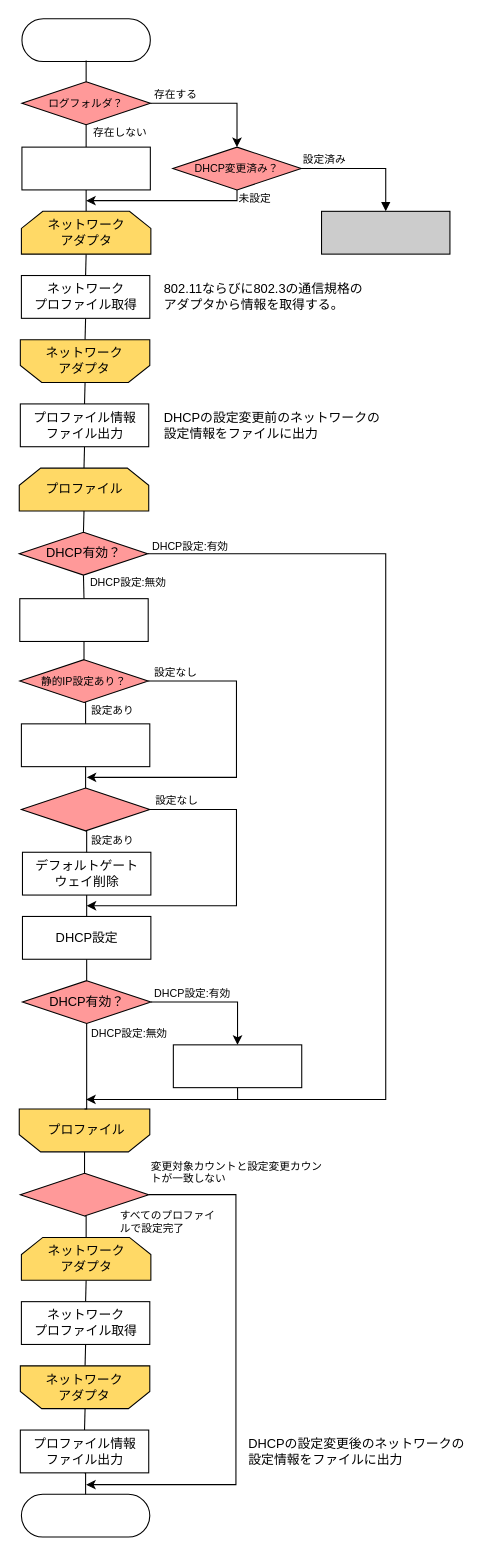
This 488x1556 diagram has some shape labels left out. The shapes that lost their labels are listed below. From the top down, each one's box as (x1, y1, x2, y2) in pixels, then its label:
(21, 18, 150, 62): スタート
(21, 146, 150, 190): ログフォルダ作成
(320, 210, 450, 254): スクリプト終了 (exit)
(19, 598, 148, 641): 変更対象カウント
(20, 723, 150, 767): IPv4 静的IPアドレス 削除
(20, 787, 150, 831): デフォルトゲート ウェイ設定あり？
(172, 1044, 302, 1088): 設定変更カウント
(19, 1172, 149, 1216): 正常終了？
(20, 1493, 150, 1537): エンド
